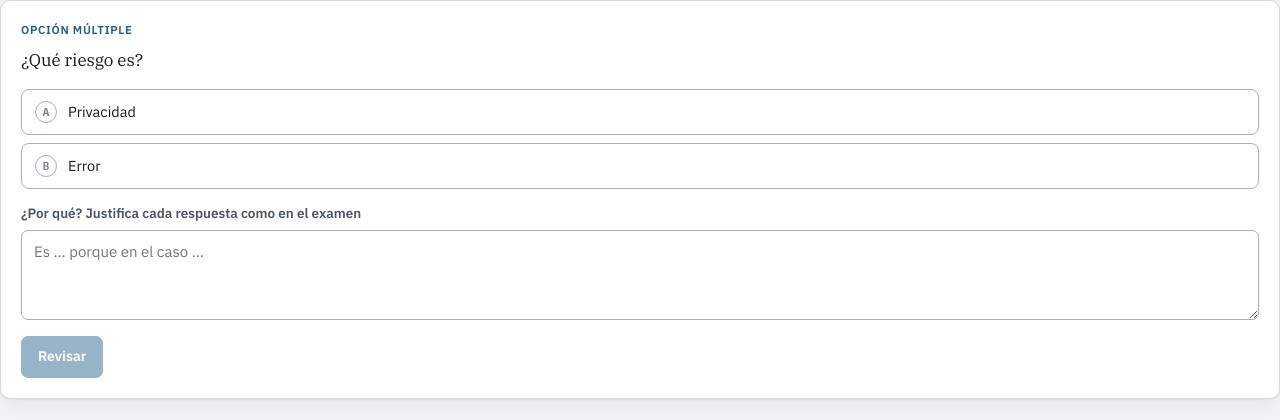
Test: justificar › elegir una opción no contesta: primero se justifica y luego se revisa
Click the text "Privacidad".
click(102, 112)  # box [68,101,136,122]
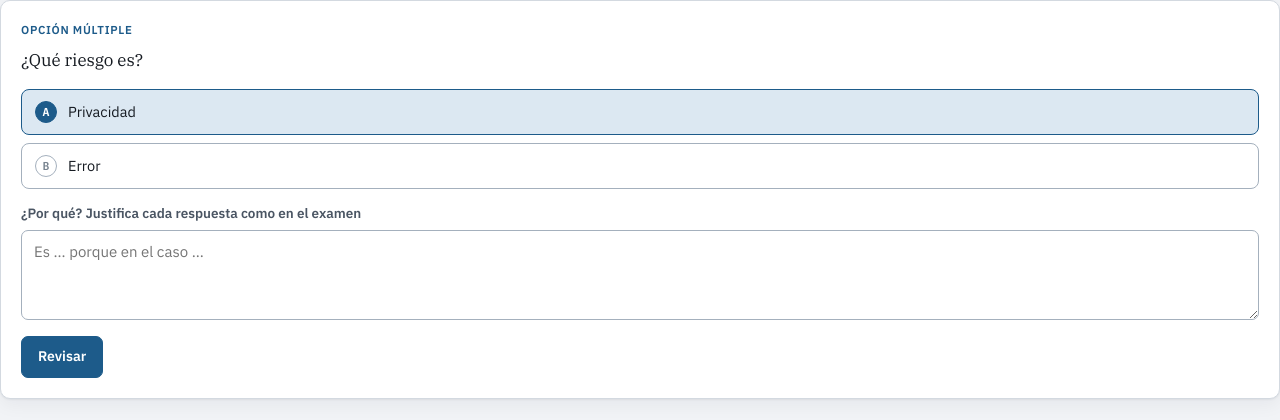
Type "Porque escucha todo el tiempo" into the text box with placeholder "Es … porque en el caso …".
click(640, 275); type("Porque escucha todo el tiempo")  # box [21,230,1259,320]
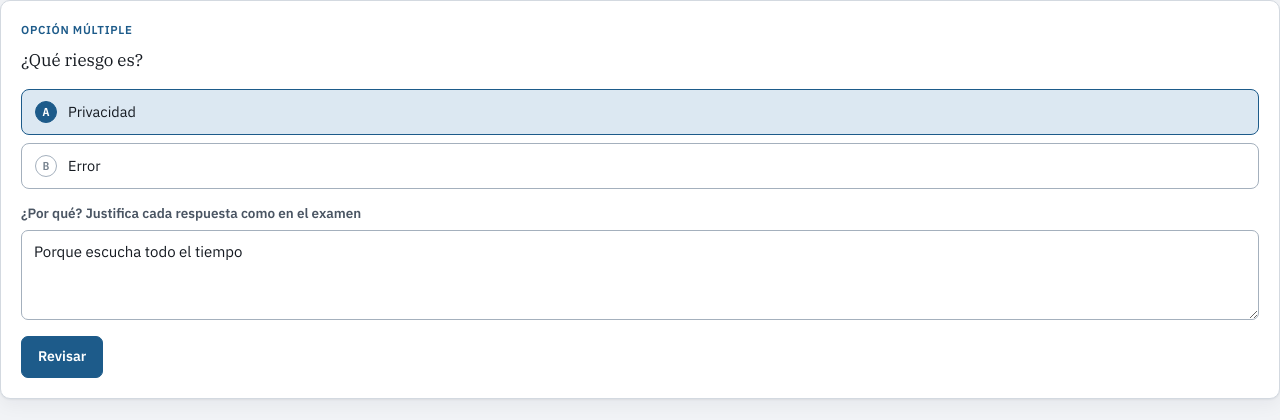
Click the button "Revisar".
click(62, 357)  # box [21,336,103,378]
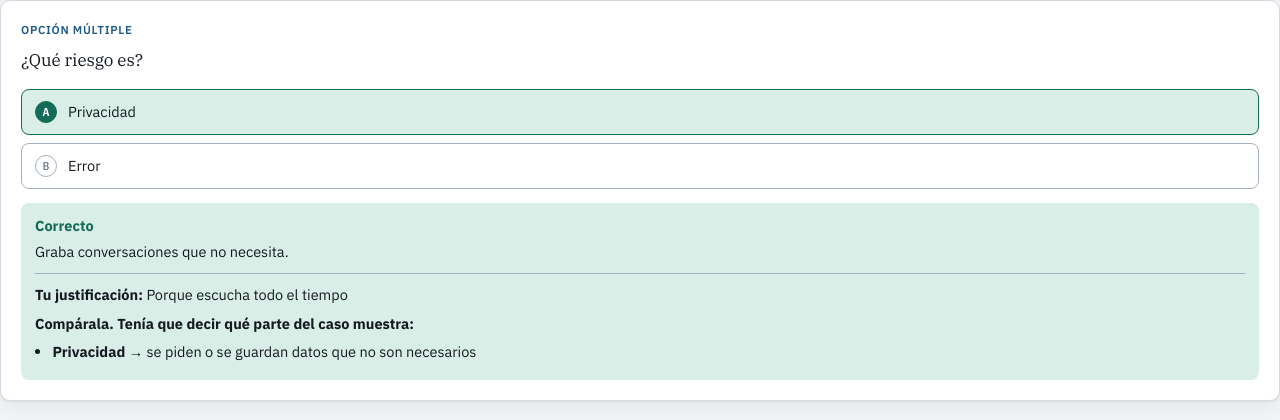
Now the text "Tu justificación: Porque escucha todo el tiempo" is shown, box [35,285,348,304]
Now the text "Compárala. Tenía que decir qué parte del caso muestra:" is shown, box [35,314,414,333]
